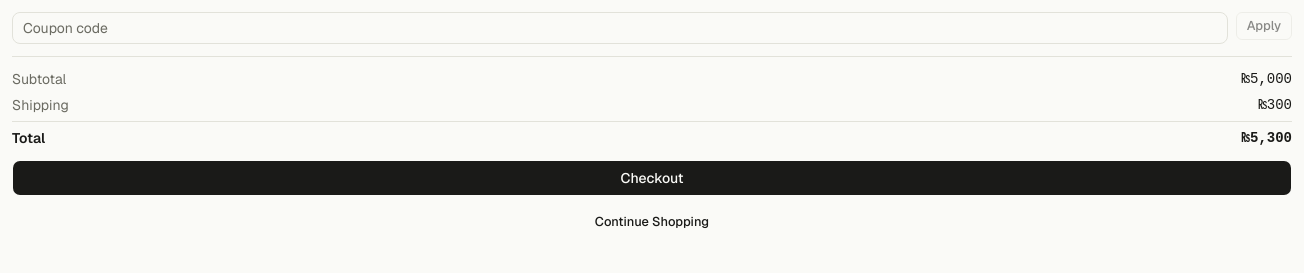
Test: CartSummary › typing after an invalid attempt resets coupon state back to idle
The image size is (1304, 273).
Type "BAD" into the field labelled "Coupon code" at (620, 28), box [12,12,1228,44]
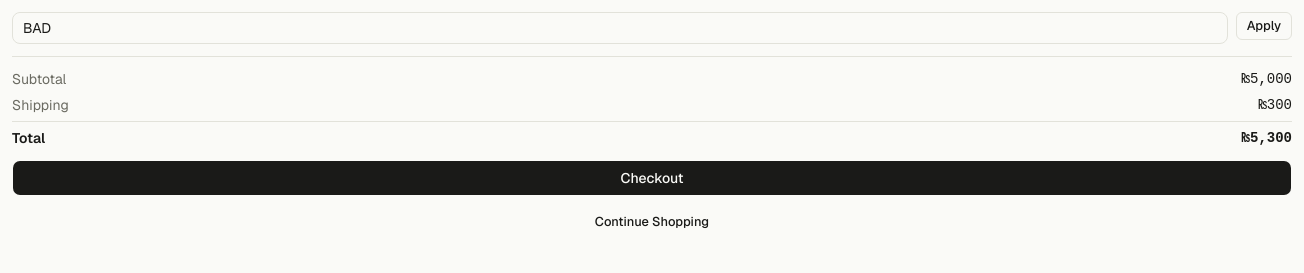
Click the button "Apply" at (1264, 26), box [1236,12,1292,40]
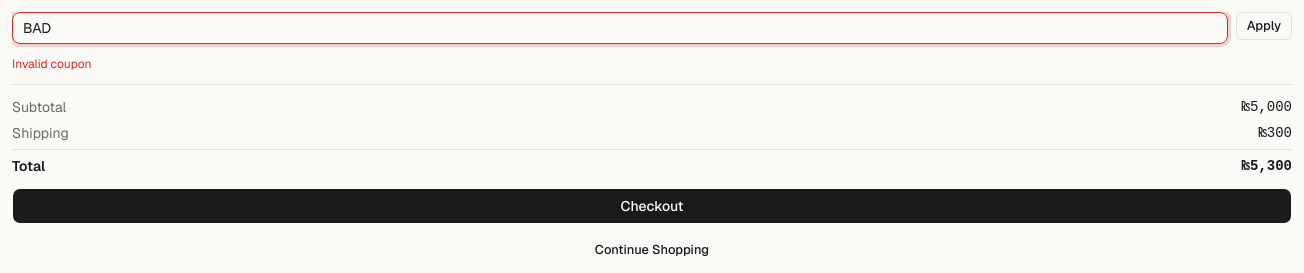
Now the text "Invalid coupon" is shown, box [12,56,91,72]
Replace the text in the field named "Coupon code" with "BADX" at (620, 28), box [12,12,1228,44]
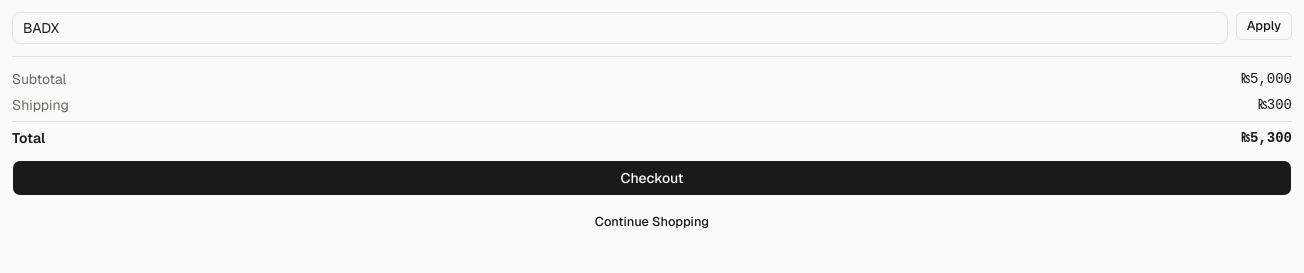
Now the text "Invalid coupon" is gone
